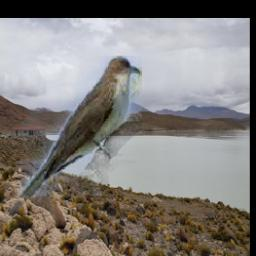Cuckoo: (16, 56, 141, 197)
